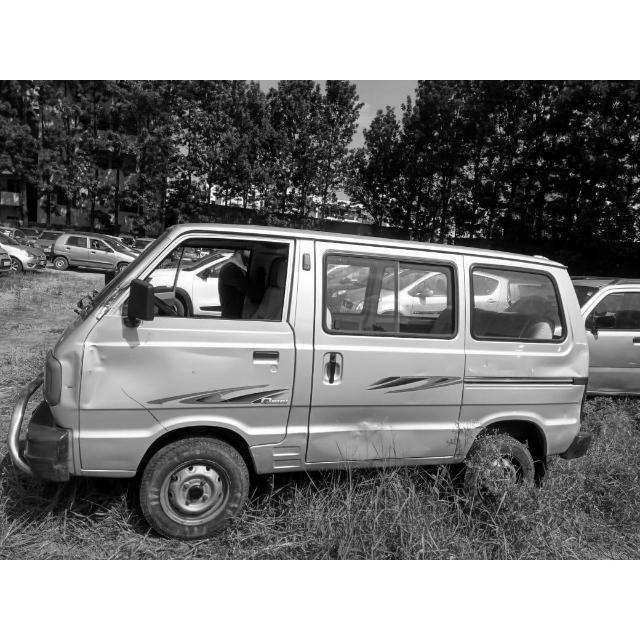doorouter-dent: (84, 328, 294, 460), (313, 323, 459, 459)
